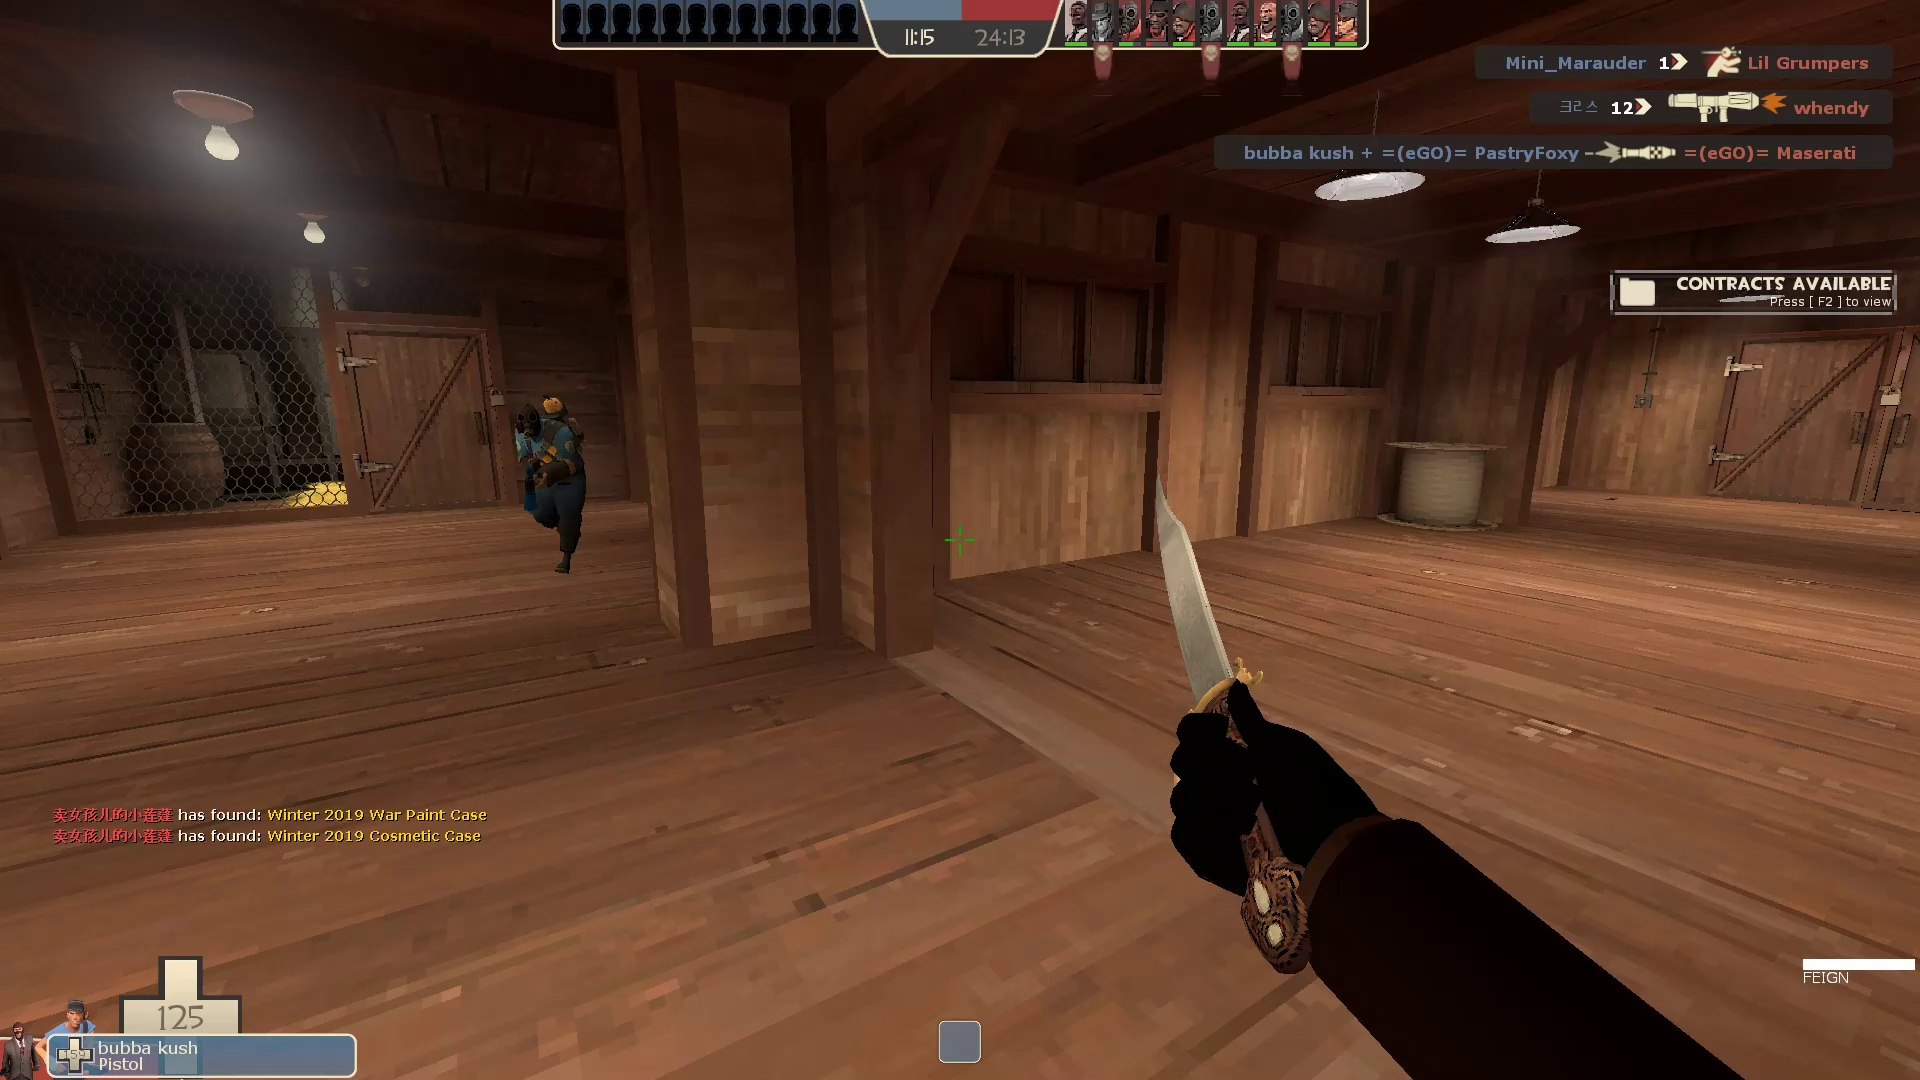blu_pyro: (498, 384, 597, 585)
